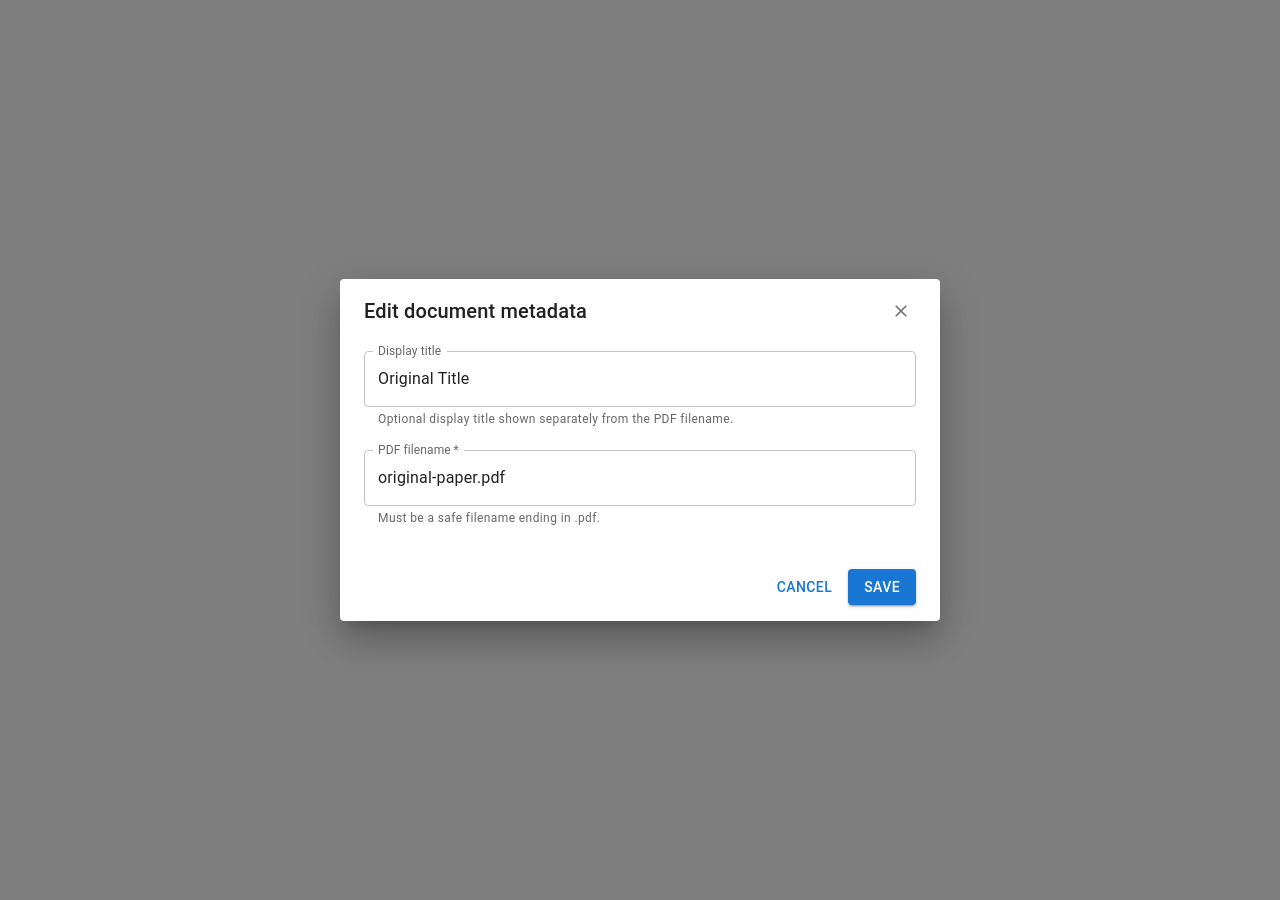
Test: EditDocumentDialog › shows error message when save fails
Replace the text in the field labelled "Display title" with "New Title": (640, 379) [364,351,916,407]
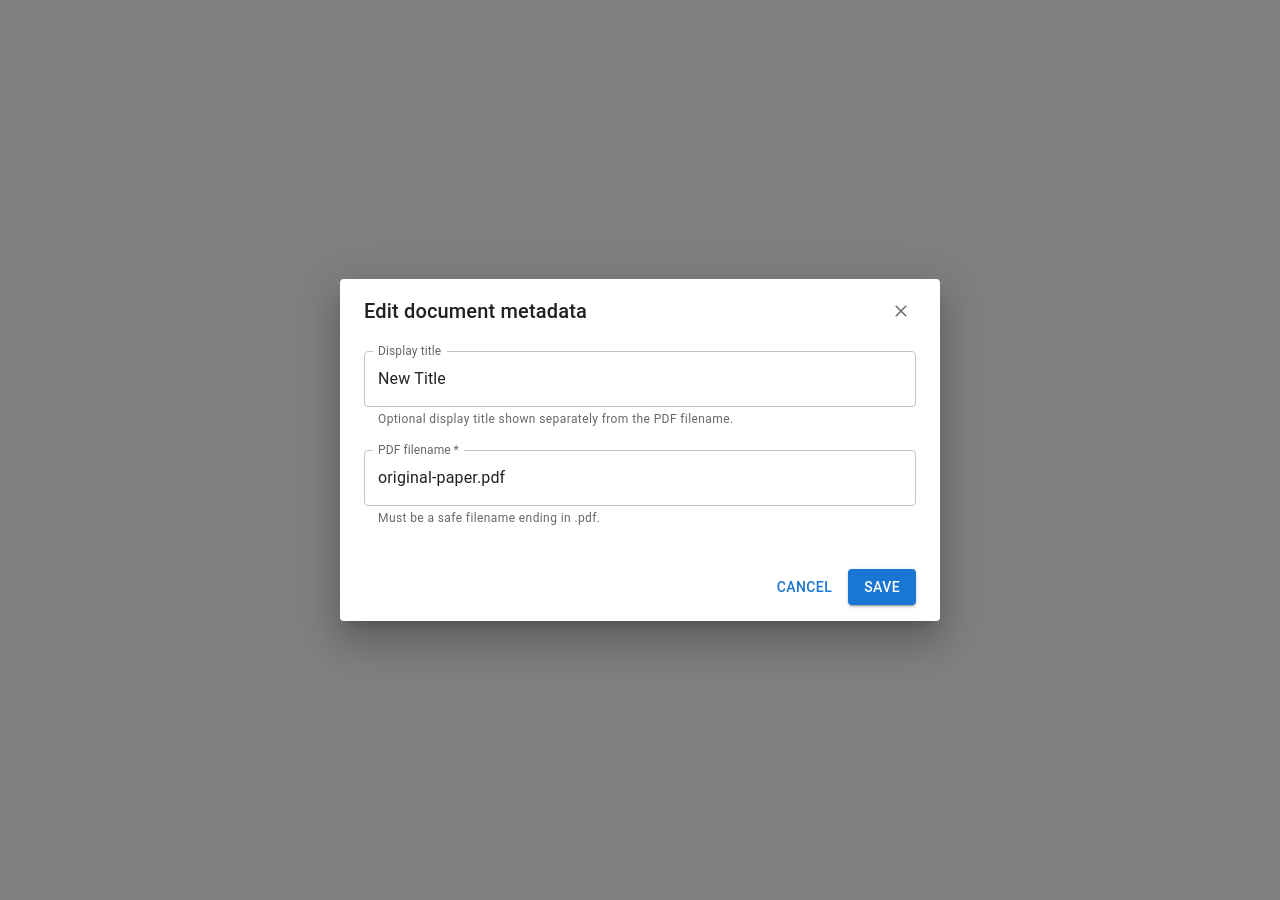
Click the button "Save": (882, 587) [848,569,916,605]
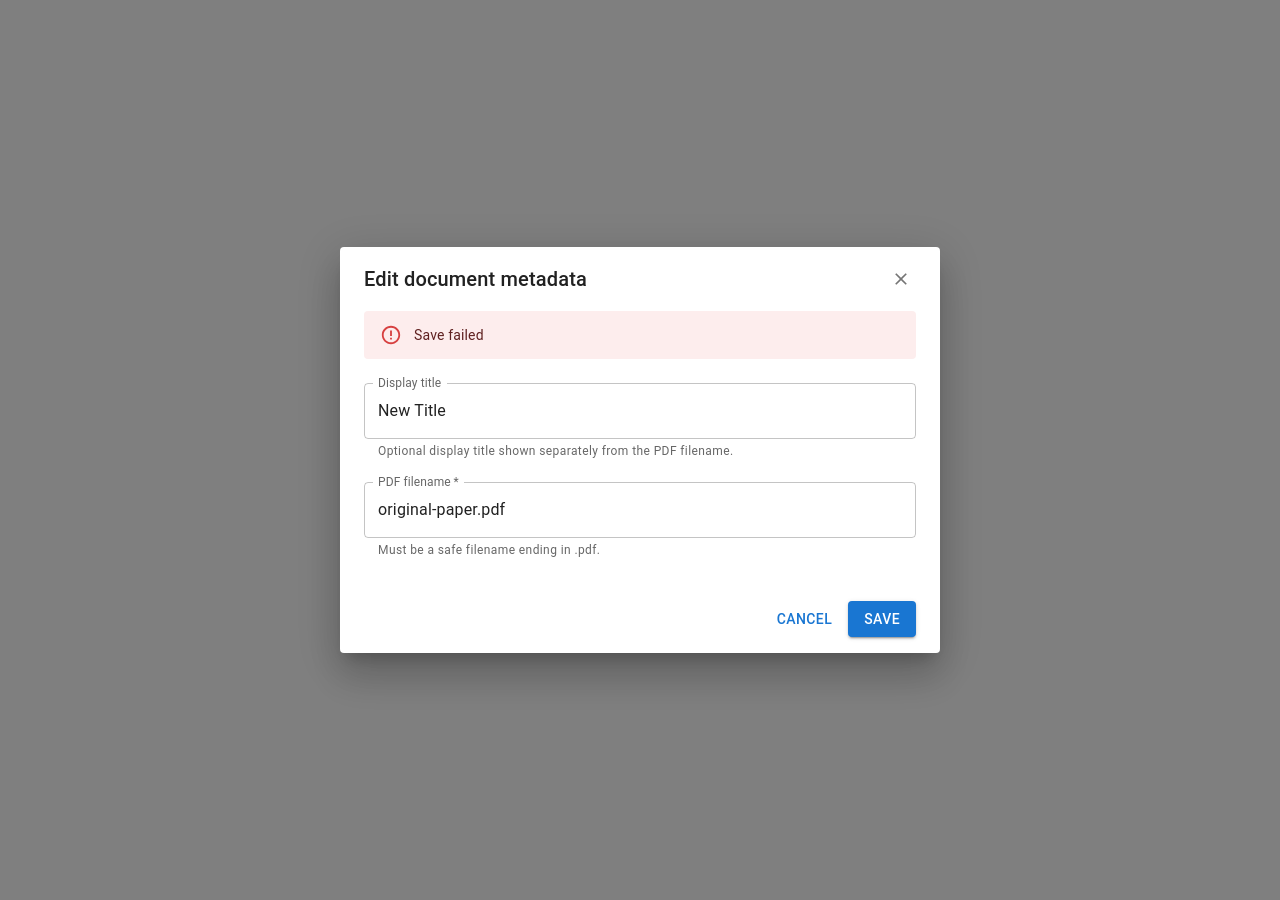
Check: the text "Save failed" is shown, box [414,327,484,343]
